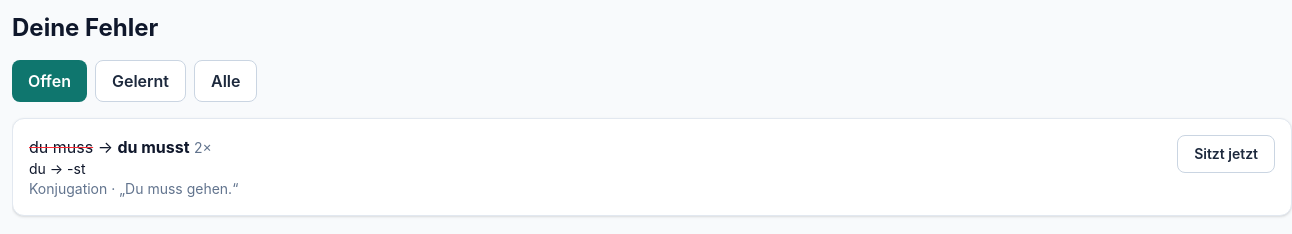
Fehler › lists open mistakes and marks one as learned
Expected: the text "du musst" is shown, left=117, top=137, right=190, bottom=157
Click the button "Sitzt jetzt": [1226, 154] box left=1177, top=135, right=1275, bottom=173
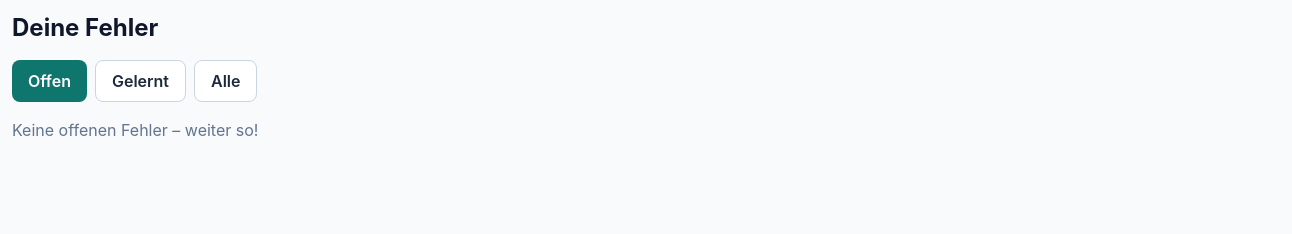
Now the text "du musst" is gone
